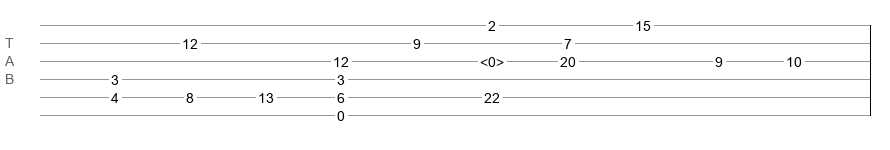0: (337, 108, 345, 118)
10: (786, 54, 802, 64)
12: (182, 36, 198, 46), (333, 54, 349, 64)
13: (258, 90, 274, 100)
15: (635, 18, 651, 28)
2: (488, 18, 496, 28)
20: (560, 54, 576, 64)
22: (484, 90, 500, 100)
3: (111, 72, 119, 82), (337, 72, 345, 82)
4: (111, 90, 119, 100)
6: (337, 90, 345, 100)
7: (564, 36, 572, 46)
8: (186, 90, 194, 100)
9: (413, 36, 421, 46), (715, 54, 723, 64)
harmonic: (480, 54, 504, 64)
